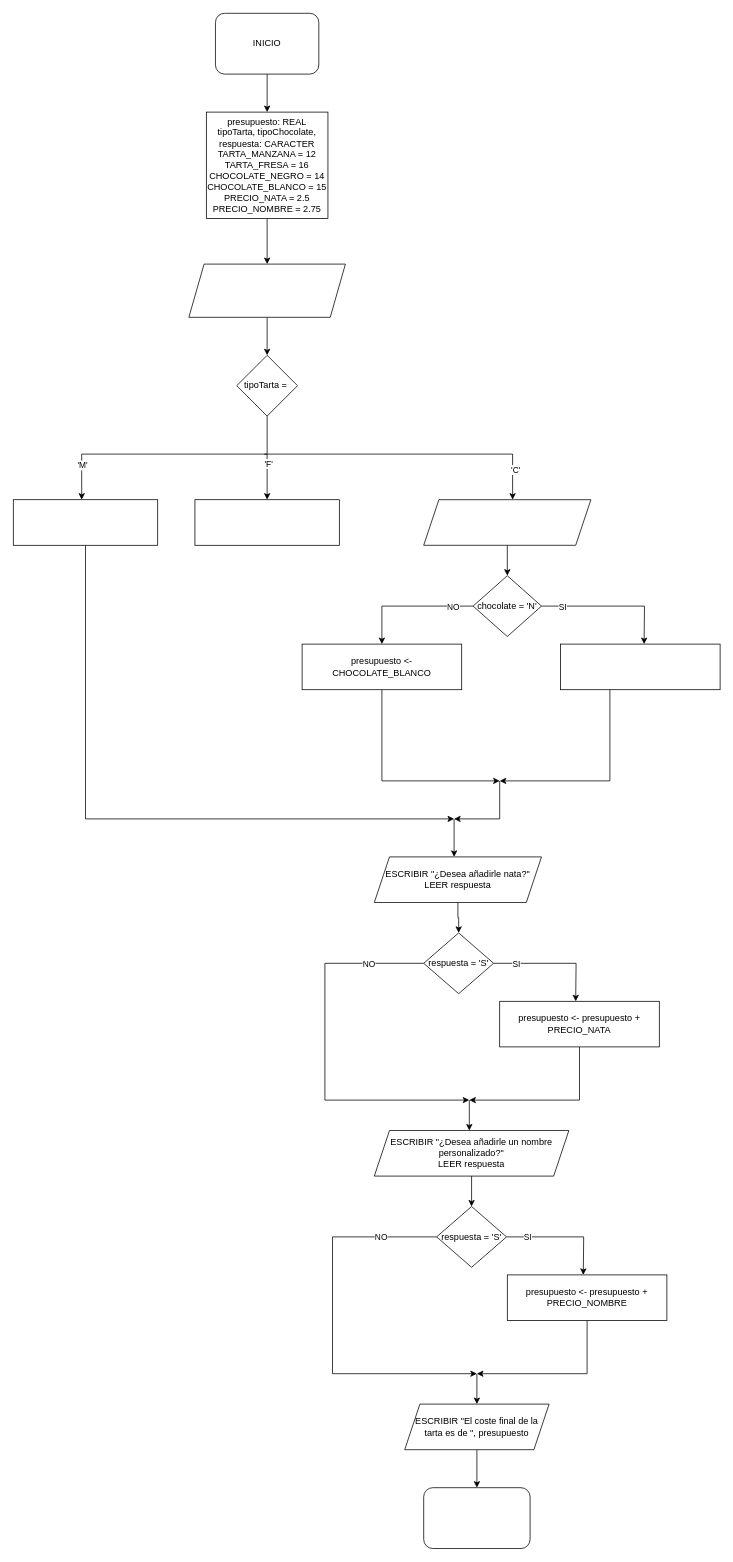
Some shapes in this 733 by 1562 pixel diagram are drawn without their labels. Each missing label, with the centre of its shape:
ESCRIBIR "¿Chocolate negro (N) o blanco (B)?" LEER chocolate: pixel 507 522
ESCRIBIR "¿Qué tipo de tarta quiere?" LEER tipoTarta: pixel 266 290
FIN: pixel 476 1517
presupuesto <- CHOCOLATE_NEGRO: pixel 640 666
presupuesto <- TARTA_FRESA: pixel 266 522
presupuesto <- TARTA_MANZANA: pixel 85 522
